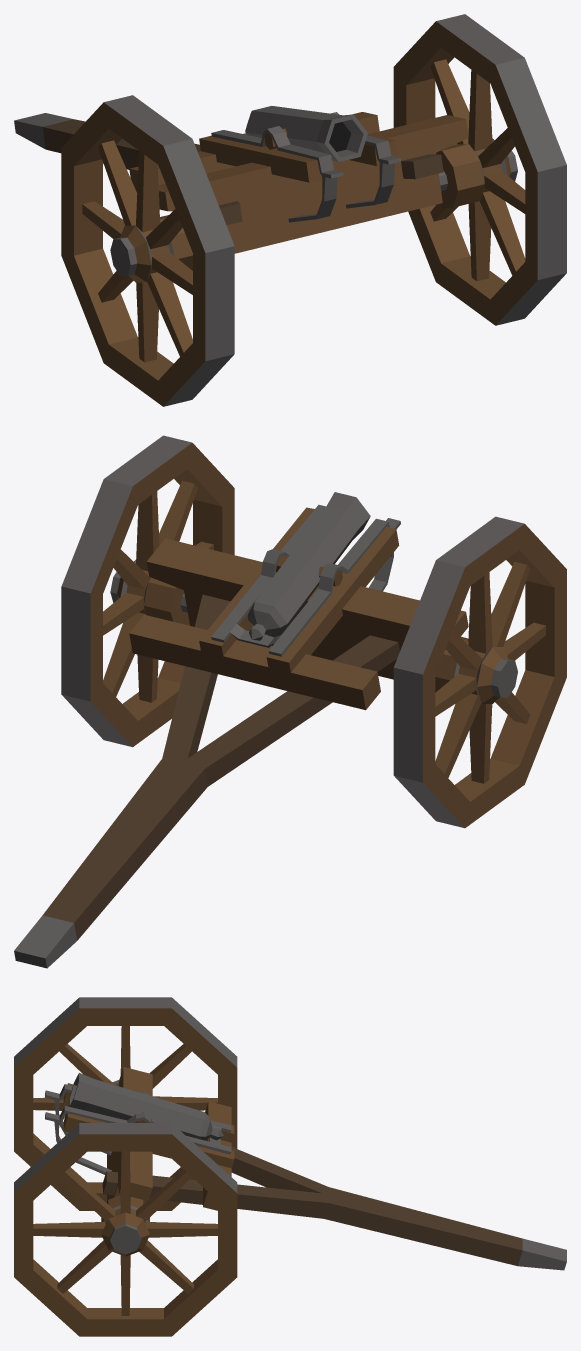
The model's file is zulu_cannon-wagon.fbx.
3 views of the same model, one above another, from view 1: azimuth 30°, elevation 25°; view 2: azimuth 150°, elevation 25°; view 3: azimuth 270°, elevation 25° (orthographic). The views are drawn at different scales.
Parts seen in each view (by area): view 1: zulu_cannon_wagon; view 2: zulu_cannon_wagon; view 3: zulu_cannon_wagon.
Boxes of the visible parts, bbox=[...] form: zulu_cannon_wagon: bbox=[14, 14, 566, 406]; zulu_cannon_wagon: bbox=[14, 435, 566, 968]; zulu_cannon_wagon: bbox=[14, 997, 566, 1336].
Size of the model in its own units: 125 by 80.79 by 200.
